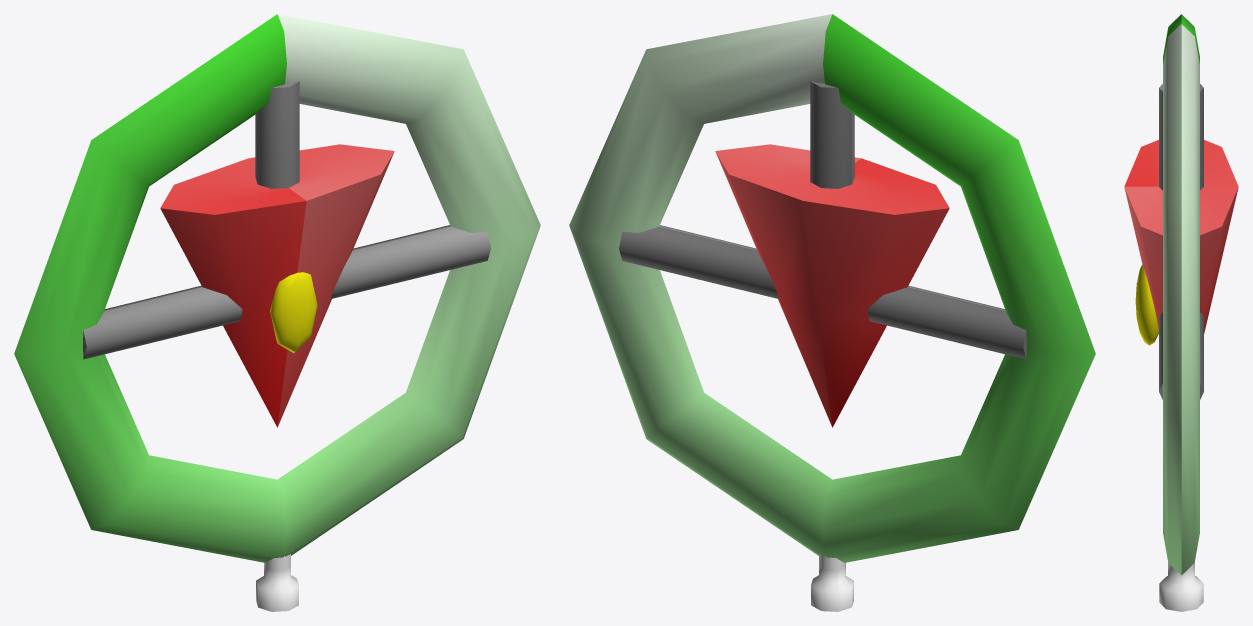
The model's file is Enemy_Ship_A.obj.
3 renders of one model, left to right at view 1: azimuth 30°, elevation 25°; view 2: azimuth 150°, elevation 25°; view 3: azimuth 270°, elevation 25°, orthographic.
Parts seen in each view (by area): view 1: polymsh; view 2: polymsh; view 3: polymsh.
Boxes of the visible parts, box(x1,y1,x2,y2) form: polymsh: box(14, 14, 540, 611); polymsh: box(569, 14, 1095, 611); polymsh: box(1124, 14, 1238, 611).
Size of the model in its own units: 8.88 by 9.49 by 1.7.
